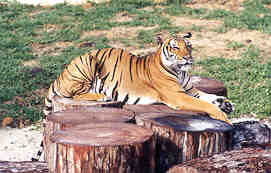Tigre: (40, 36, 231, 119)
